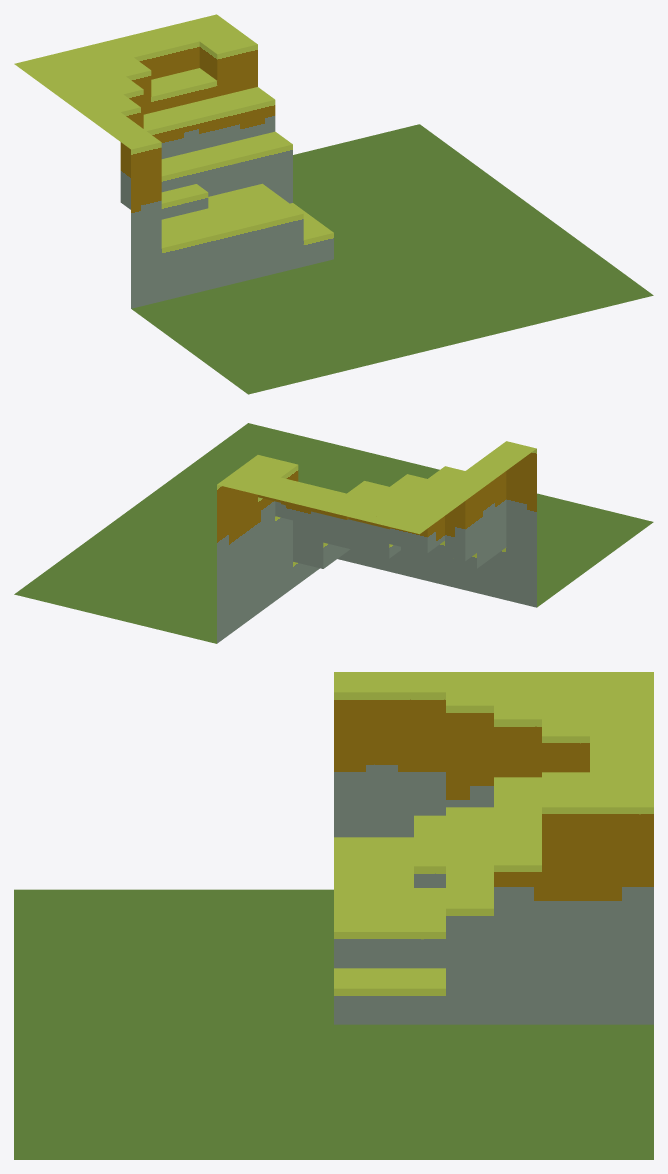
Rendered from MLLL(3).glb.
The picture shows the model from 3 angles, top to bottom: view 1: azimuth 30°, elevation 25°; view 2: azimuth 150°, elevation 25°; view 3: azimuth 270°, elevation 25°; orthographic projection. The views are drawn at different scales.
Parts seen in each view (by area): view 1: model_0.024; view 2: model_0.024; view 3: model_0.024.
Part boxes in pixels (x1=…): model_0.024: x1=14, y1=14, x2=653, y2=394; model_0.024: x1=14, y1=423, x2=653, y2=643; model_0.024: x1=14, y1=672, x2=653, y2=1159.
Size of the model in its own units: 80 by 30 by 80.
Materials: 1 (1 with a texture image).
